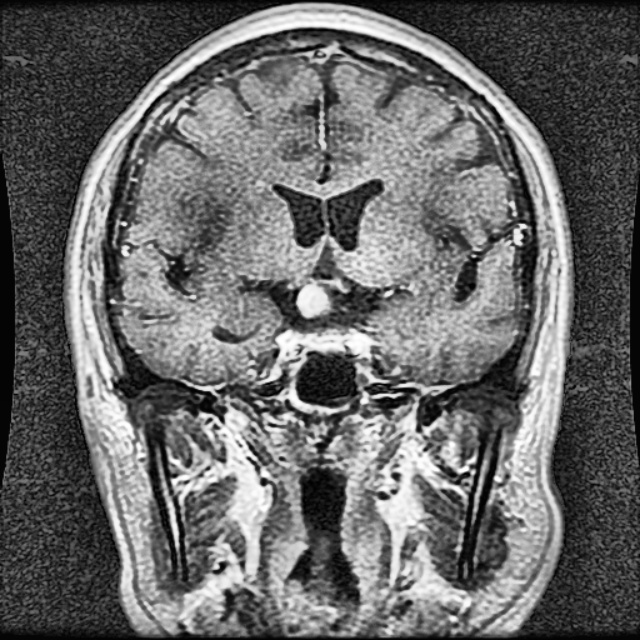Pituitary: (295, 279, 330, 318)
